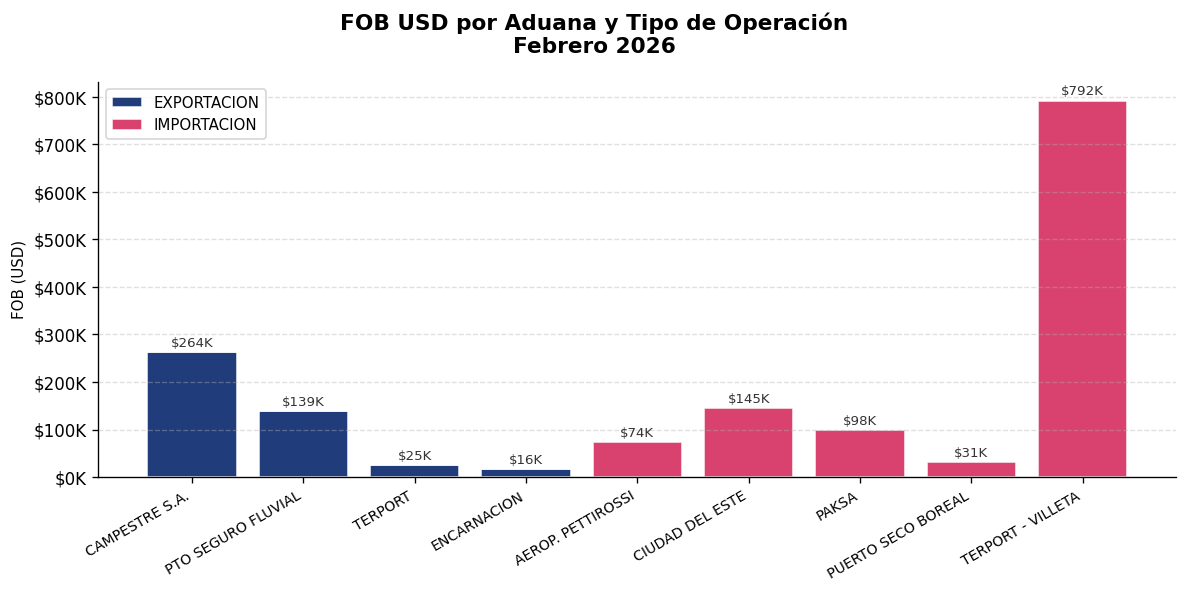

The dashboard page shown, as its layout file describes it:
{"tool":"powerbi","page":{"name":"Página 1","canvas":[1280,720],"ordinal":0},"visuals":[{"type":"barChart","fields":{"Category":["Dim_Marca.marca","Dim_Operacion.operacion","Dim_Pais.descripcion_pais"],"Y":["Fact_Aduana.Total USD","Fact_Aduana.TotalGs"],"Rows":["Dim_Aduana.aduana"]},"box":[0,27.2,1250.8,562.2],"z":0}]}

Visuals, with their boxes on the page's 1280x720 design canvas (x1, y1, x2, y2). These are canvas units, not pixel positions in the 1188x593 screenshot, which may show the page scaled, cropped or inside an application window:
barChart - Dim_Marca.marca x Dim_Operacion.operacion: crop(0, 27, 1251, 589)
